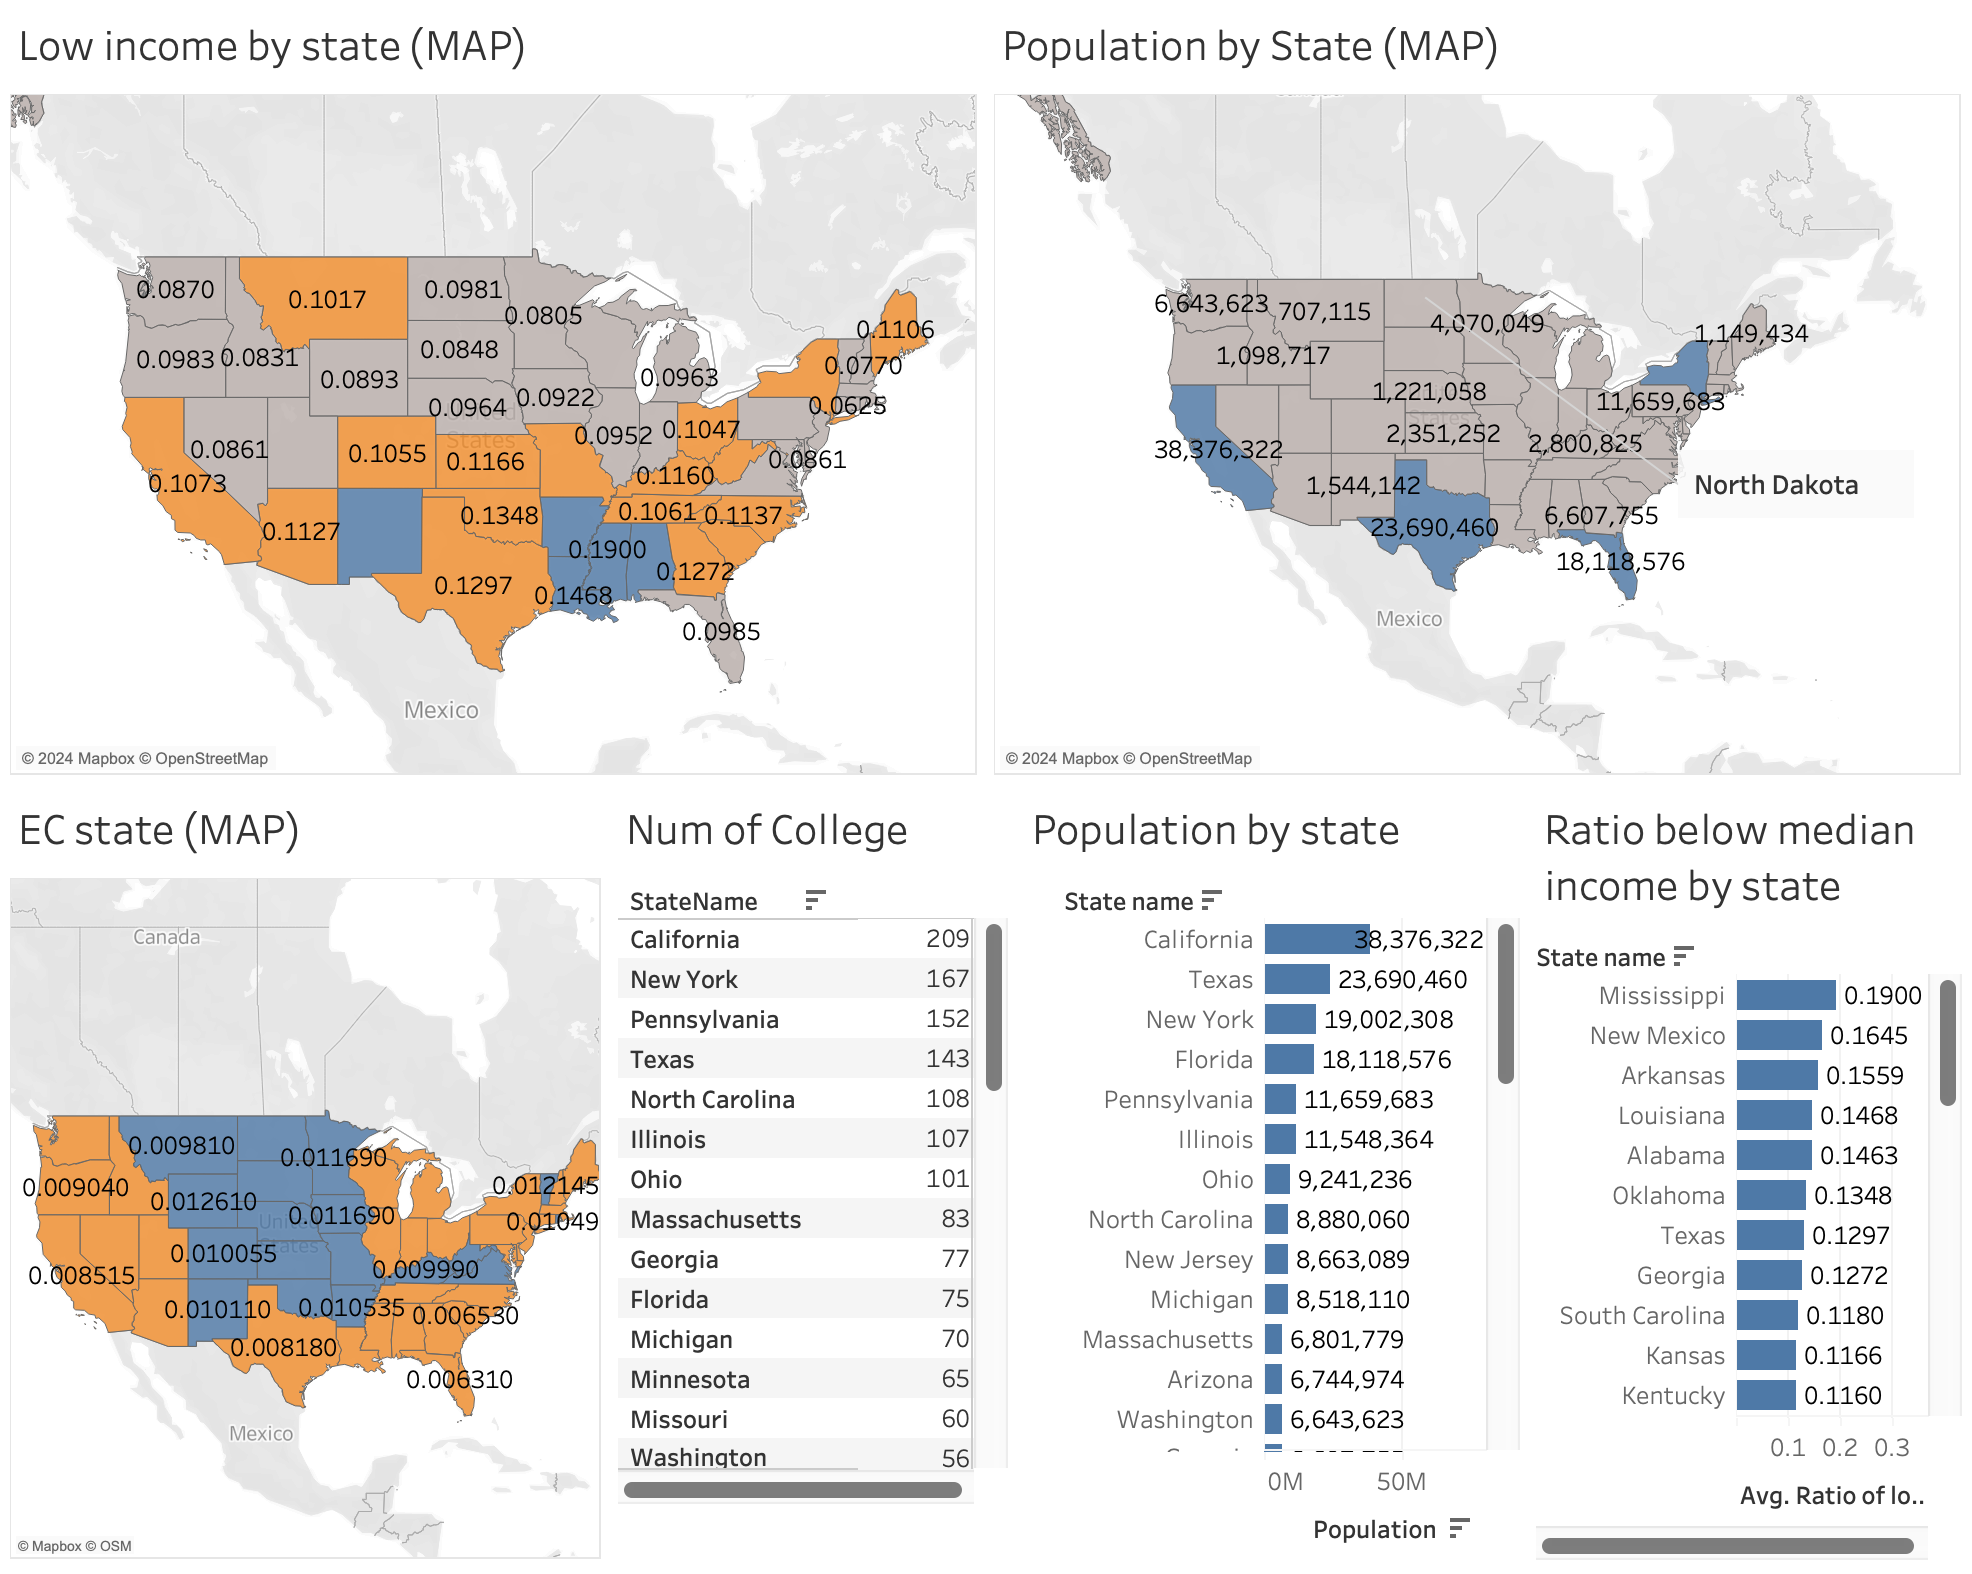

What the dashboard file says about the page in this screenshot:
{"tool":"tableau","page":{"name":"State insights","canvas":[1000,800],"ordinal":4},"visuals":[{"type":"worksheet","title":"Low income by state (MAP)","mark":"Multipolygon","box":[8,8,492,392]},{"type":"worksheet","title":"Population by State (MAP)","mark":"Multipolygon","box":[500,8,492,392]},{"type":"worksheet","title":"EC state (MAP)","mark":"Multipolygon","box":[8,400,304,392]},{"type":"worksheet","title":"Num of College","mark":"Automatic","rows":["Calculation_418553342567432193"],"box":[312,400,203,392]},{"type":"worksheet","title":"Population by state","mark":"Automatic","rows":["Calculation_73957601750016002"],"cols":["pop2018"],"box":[515,400,256,392]},{"type":"worksheet","title":"Ratio below median income by state","mark":"Automatic","rows":["Calculation_73957601750016002"],"cols":["Calculation_187603124918697985"],"box":[771,400,221,392]}]}

Visuals, with their boxes in screenshot pixels (x1, y1, x2, y2), scaled from the page's 1000x800 canvas onto the 1972x1574 screenshot:
"Low income by state (MAP)" worksheet (Multipolygon marks): x1=16, y1=16, x2=986, y2=787
"Population by State (MAP)" worksheet (Multipolygon marks): x1=986, y1=16, x2=1956, y2=787
"EC state (MAP)" worksheet (Multipolygon marks): x1=16, y1=787, x2=615, y2=1558
"Num of College" worksheet: x1=615, y1=787, x2=1016, y2=1558
"Population by state" worksheet: x1=1016, y1=787, x2=1520, y2=1558
"Ratio below median income by state" worksheet: x1=1520, y1=787, x2=1956, y2=1558
